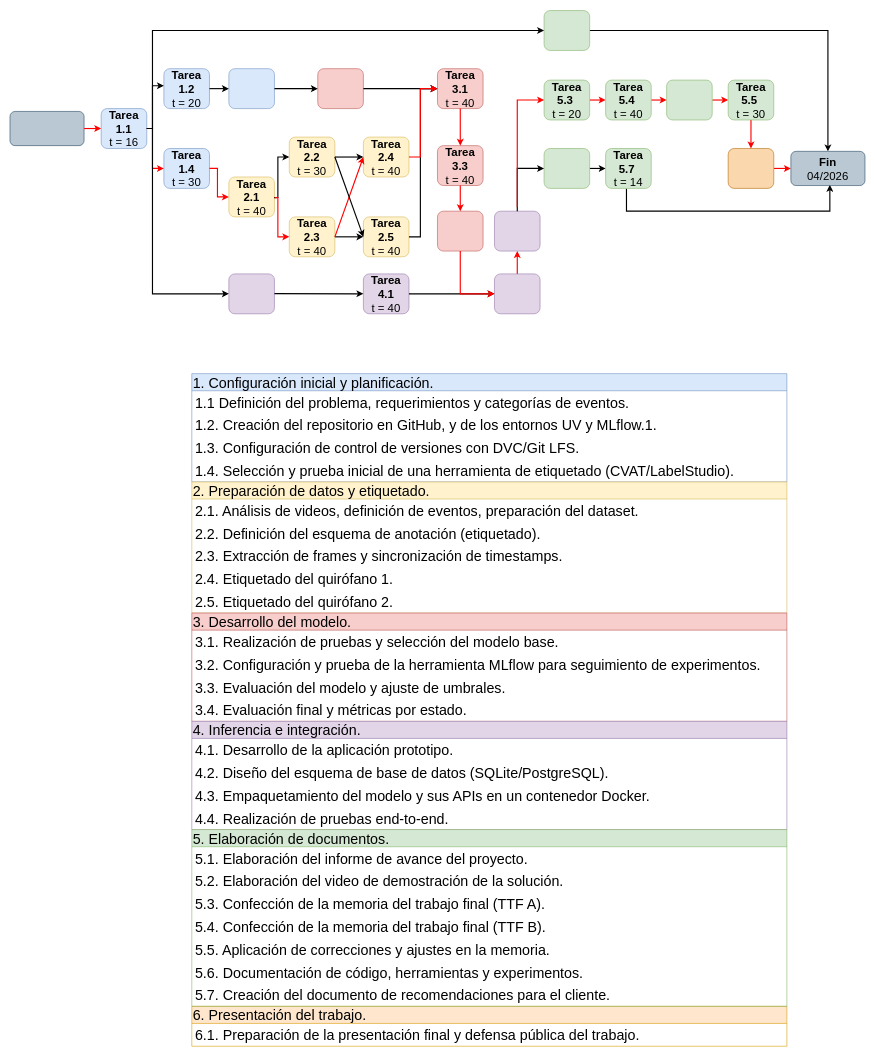
Image size: 875x1056. Some labels were removed from this diagram. The centre of each missing label's shape, as x and y in pixels:
Inicio 24/06/2025: the point at 46,128
Tarea 1.3 t = 14: the point at 251,88
Tarea 3.2 t = 8: the point at 340,88
Tarea 3.4 t = 40: the point at 460,231
Tarea 4.2 t = 8: the point at 251,293
Tarea 4.3 t = 40: the point at 517,293
Tarea 4.4 t = 40: the point at 517,231
Tarea 5.1 t = 5: the point at 566,30
Tarea 5.2 t = 15: the point at 689,100
Tarea 5.6 t = 20: the point at 566,168
Tarea 6.1 t = 30: the point at 751,168
